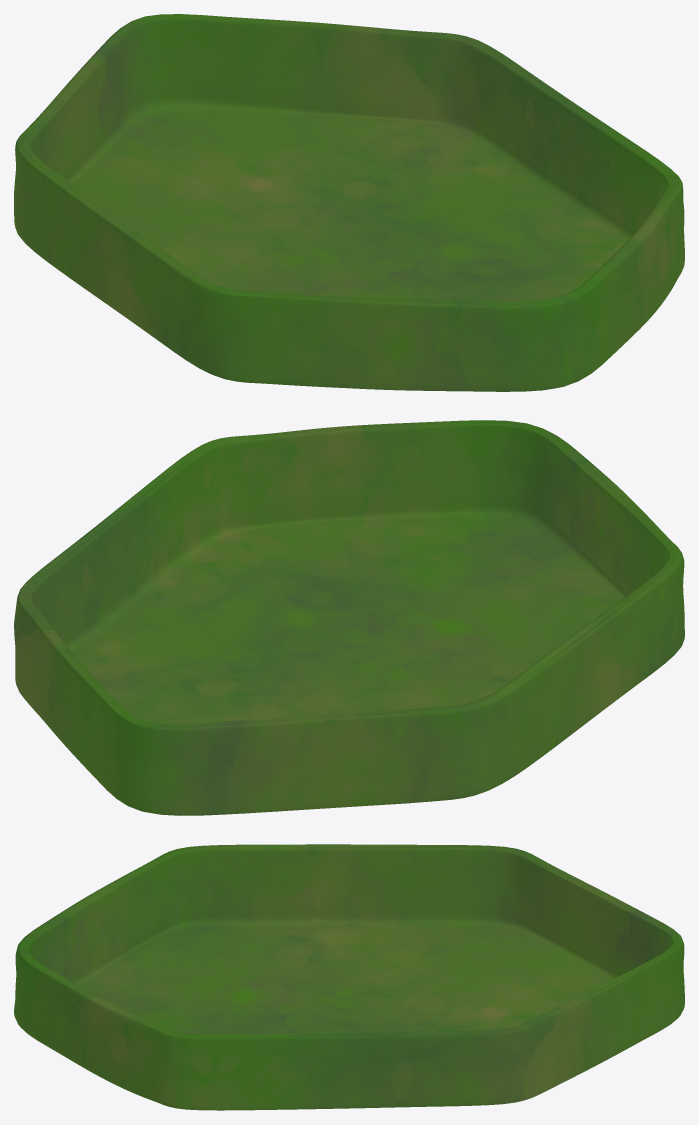
File: membrana plasmatica.glb
3 views of the same model, one above another, from view 1: azimuth 30°, elevation 25°; view 2: azimuth 150°, elevation 25°; view 3: azimuth 270°, elevation 25° (orthographic). The views are drawn at different scales.
Parts seen in each view (by area): view 1: Object_2; view 2: Object_2; view 3: Object_2.
Part boxes in pixels (x1=…): Object_2: x1=14, y1=14, x2=684, y2=391; Object_2: x1=14, y1=420, x2=684, y2=815; Object_2: x1=14, y1=844, x2=684, y2=1110.
Size of the model in its own units: 5.13 by 0.913 by 7.38.
Materials: 1 (1 with a texture image).
